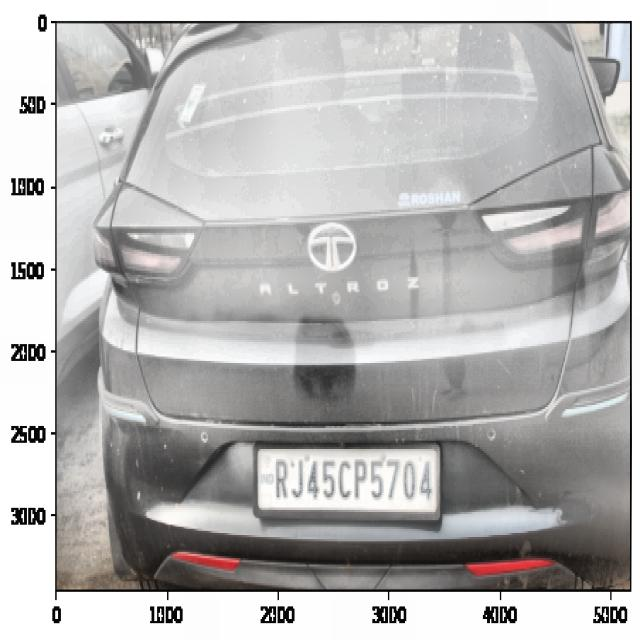license_plate: (269, 444, 441, 509)
